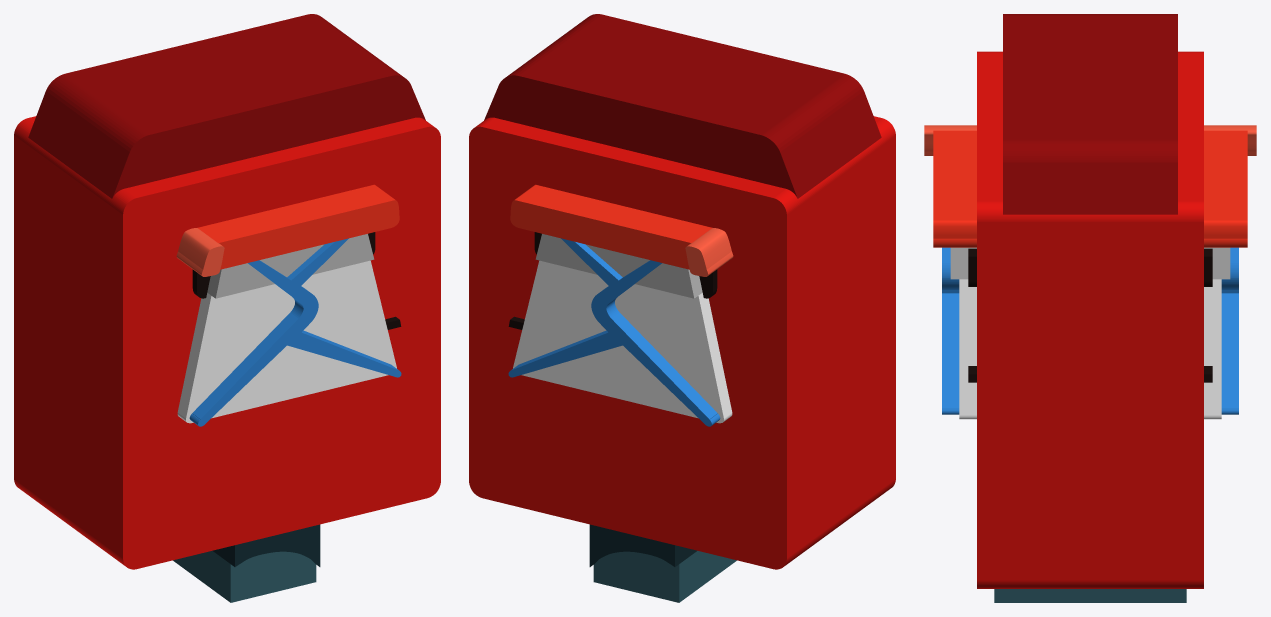
The picture shows the model from 3 angles, left to right: view 1: azimuth 30°, elevation 25°; view 2: azimuth 150°, elevation 25°; view 3: azimuth 270°, elevation 25°; orthographic projection. The views are drawn at different scales.
Visible parts, largest first — view 1: U+1F4EE_layer03_obj01, U+1F4EE_layer00_obj00, U+1F4EE_layer05_obj00, U+1F4EE_layer08_obj00, U+1F4EE_layer07_obj01, U+1F4EE_layer01_obj00, U+1F4EE_layer06_obj00, U+1F4EE_layer07_obj00, U+1F4EE_layer02_obj00, U+1F4EE_layer09_obj00; view 2: U+1F4EE_layer03_obj01, U+1F4EE_layer00_obj00, U+1F4EE_layer05_obj00, U+1F4EE_layer08_obj00, U+1F4EE_layer07_obj01, U+1F4EE_layer01_obj00, U+1F4EE_layer06_obj00, U+1F4EE_layer07_obj00, U+1F4EE_layer02_obj00, U+1F4EE_layer09_obj00; view 3: U+1F4EE_layer03_obj01, U+1F4EE_layer00_obj00, U+1F4EE_layer08_obj00, U+1F4EE_layer07_obj01, U+1F4EE_layer05_obj00, U+1F4EE_layer01_obj00, U+1F4EE_layer06_obj00, U+1F4EE_layer09_obj00, U+1F4EE_layer04_obj00.
Boxes of the visible parts, <box> form: U+1F4EE_layer03_obj01: <box>14,116,440,569</box>; U+1F4EE_layer00_obj00: <box>28,14,425,198</box>; U+1F4EE_layer05_obj00: <box>177,260,396,423</box>; U+1F4EE_layer08_obj00: <box>197,184,399,269</box>; U+1F4EE_layer07_obj01: <box>189,238,401,426</box>; U+1F4EE_layer01_obj00: <box>173,551,316,602</box>; U+1F4EE_layer06_obj00: <box>207,234,374,298</box>; U+1F4EE_layer07_obj00: <box>200,239,399,424</box>; U+1F4EE_layer02_obj00: <box>212,524,320,566</box>; U+1F4EE_layer09_obj00: <box>176,228,224,276</box>; U+1F4EE_layer03_obj01: <box>469,116,895,569</box>; U+1F4EE_layer00_obj00: <box>484,14,881,198</box>; U+1F4EE_layer05_obj00: <box>513,260,732,423</box>; U+1F4EE_layer08_obj00: <box>510,184,712,269</box>; U+1F4EE_layer07_obj01: <box>508,238,720,426</box>; U+1F4EE_layer01_obj00: <box>593,551,736,602</box>; U+1F4EE_layer06_obj00: <box>535,234,702,298</box>; U+1F4EE_layer07_obj00: <box>510,239,709,424</box>; U+1F4EE_layer02_obj00: <box>589,524,697,566</box>; U+1F4EE_layer09_obj00: <box>685,228,733,276</box>; U+1F4EE_layer03_obj01: <box>977,51,1203,588</box>; U+1F4EE_layer00_obj00: <box>1003,14,1177,214</box>; U+1F4EE_layer08_obj00: <box>933,130,1247,247</box>; U+1F4EE_layer07_obj01: <box>942,247,1238,414</box>; U+1F4EE_layer05_obj00: <box>959,279,1221,419</box>; U+1F4EE_layer01_obj00: <box>994,589,1186,602</box>; U+1F4EE_layer06_obj00: <box>950,247,1230,279</box>; U+1F4EE_layer09_obj00: <box>924,125,1256,155</box>; U+1F4EE_layer04_obj00: <box>968,248,1212,286</box>.
Size of the model in its own units: 0.2187 by 0.3181 by 0.19.
